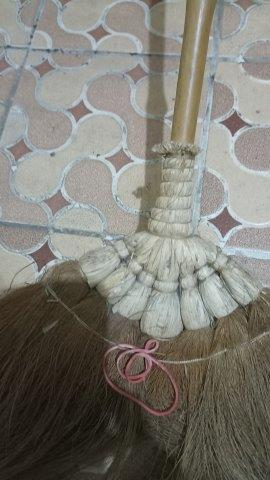karet: (101, 339, 179, 417)
